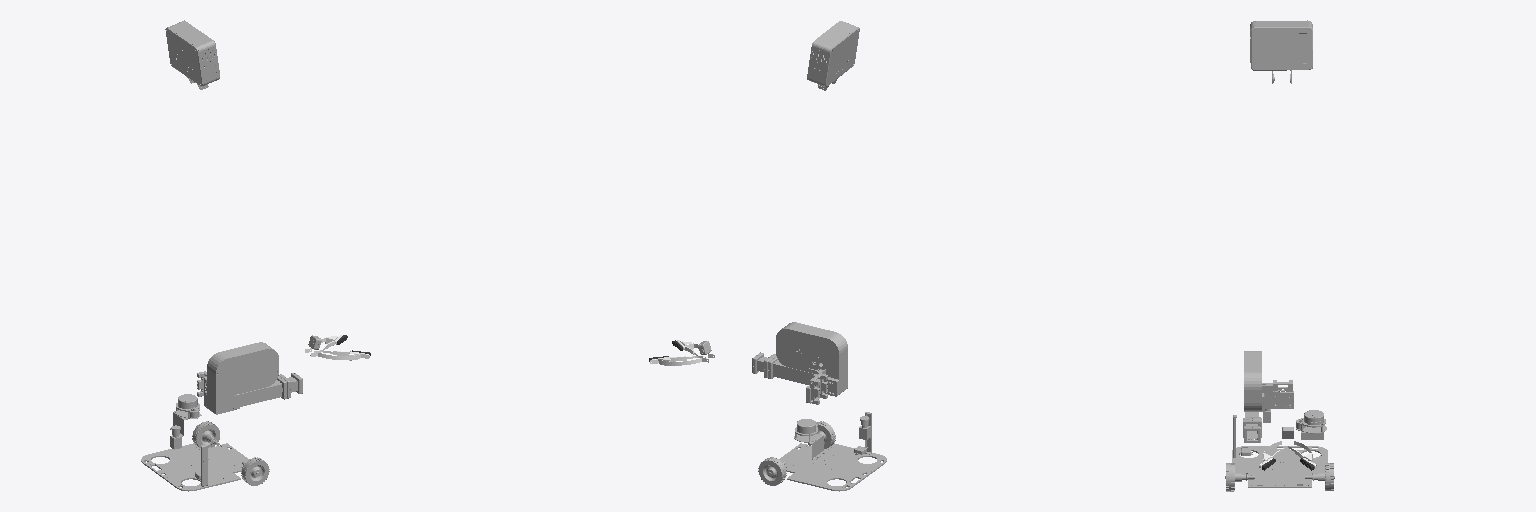
robot.urdf — konka_without_head_camera:
<?xml version="1.0" encoding="utf-8"?>
<!-- This URDF was automatically created by SolidWorks to URDF Exporter! Originally created by Stephen Brawner ([email redacted]) 
     Commit Version: 1.6.0-4-g7f85cfe  Build Version: 1.6.7995.38578
     For more information, please see http://wiki.ros.org/sw_urdf_exporter -->
<robot
  name="konka_without_head_camera">
  <link name="ground_link"/>
  <link name="base_link_z">
    <inertial>
      <origin xyz="0. 0. 0." rpy="0. 0. 0."/>
      <mass value="0.000001"/>
      <inertia ixx="0." ixy="0." ixz="0." iyy="0." iyz="0." izz="0."/>
    </inertial>
  </link>
  <joint name="base_z" type="revolute">
    <origin xyz="0. 0. 0." rpy="0. 0. 0."/>
    <parent link="ground_link"/>
    <child link="base_link_z"/>
    <axis xyz="0. 0. 1."/>
    <limit lower="-6.0" upper="6.0" effort="100" velocity="1.5"/>
  </joint>
  <link
    name="base_link">
    <inertial>
      <origin
        xyz="-0.134386456438626 -0.0029635574533388 0.0162723957299908"
        rpy="0 0 0" />
      <mass
        value="1.62345380476899" />
      <inertia
        ixx="0.0102521793009218"
        ixy="-0.000137622284476433"
        ixz="-2.97249967180695E-06"
        iyy="0.0105024284991203"
        iyz="-2.61808281409741E-05"
        izz="0.0200126307730333" />
    </inertial>
    <visual>
      <origin
        xyz="0 0 0"
        rpy="0 0 0" />
      <geometry>
        <mesh
          filename="./base_link.STL" />
      </geometry>
      <material
        name="">
        <color
          rgba="0.752941176470588 0.752941176470588 0.752941176470588 1" />
      </material>
    </visual>
    <collision>
      <origin
        xyz="0 0 0"
        rpy="0 0 0" />
      <geometry>
        <mesh
          filename="./base_link.STL" />
      </geometry>
    </collision>
  </link>
  <joint name="base_fixed" type="fixed">
    <origin xyz="0. 0. 0.05" rpy="0. 0. 0."/>
    <parent link="base_link_z"/>
    <child link="base_link"/>
  </joint>
  <link name="calibration_board"/>
  <joint name="calibration_board_joint" type="fixed">
    <origin xyz="0.6 0. -0.005" rpy="0. 0. 0."/>
    <parent link="base_link"/>
    <child link="calibration_board"/>
  </joint>
  <link
    name="link_left_wheel">
    <inertial>
      <origin
        xyz="1.2768616369091E-05 -4.43366311559182E-06 -0.0324391427791873"
        rpy="0 0 0" />
      <mass
        value="0.614259402757732" />
      <inertia
        ixx="0.000332643157382783"
        ixy="-1.12599594927163E-08"
        ixz="-1.85299097610504E-07"
        iyy="0.000332614640545352"
        iyz="6.43430424579014E-08"
        izz="0.000436884693388146" />
    </inertial>
    <visual>
      <origin
        xyz="0 0 0"
        rpy="0 0 0" />
      <geometry>
        <mesh
          filename="./link_left_wheel.STL" />
      </geometry>
      <material
        name="">
        <color
          rgba="0.752941176470588 0.752941176470588 0.752941176470588 1" />
      </material>
    </visual>
    <collision>
      <origin
        xyz="0 0 0"
        rpy="0 0 0" />
      <geometry>
        <mesh
          filename="./link_left_wheel.STL" />
      </geometry>
    </collision>
  </link>
  <joint
    name="joint_left_wheel"
    type="revolute">
    <origin
      xyz="0 0.192599945028044 0.000145516989955043"
      rpy="-1.57004078679594 0 0" />
    <parent
      link="base_link" />
    <child
      link="link_left_wheel" />
    <axis
      xyz="0 0 1" />
    <limit lower="-3.13" upper="3.13" effort="100" velocity="1.0"/>
  </joint>
  <link
    name="link_right_wheel">
    <inertial>
      <origin
        xyz="-6.5658817576808E-06 -1.18145727525283E-05 0.0324391427623859"
        rpy="0 0 0" />
      <mass
        value="0.614259402757732" />
      <inertia
        ixx="0.000332619304616668"
        ixy="1.54284701123084E-08"
        ixz="-9.5282980946905E-08"
        iyy="0.000332638493311467"
        iyz="-1.71455292240236E-07"
        izz="0.000436884693388146" />
    </inertial>
    <visual>
      <origin
        xyz="0 0 0"
        rpy="0 0 0" />
      <geometry>
        <mesh
          filename="./link_right_wheel.STL" />
      </geometry>
      <material
        name="">
        <color
          rgba="0.752941176470588 0.752941176470588 0.752941176470588 1" />
      </material>
    </visual>
    <collision>
      <origin
        xyz="0 0 0"
        rpy="0 0 0" />
      <geometry>
        <mesh
          filename="./link_right_wheel.STL" />
      </geometry>
    </collision>
  </link>
  <joint
    name="joint_right_wheel"
    type="revolute">
    <origin
      xyz="0 -0.192599945028044 -0.000145516989955071"
      rpy="-1.57004078679594 0 0" />
    <parent
      link="base_link" />
    <child
      link="link_right_wheel" />
    <axis
      xyz="0 0 1" />
    <limit lower="-3.13" upper="3.13" effort="100" velocity="1.0"/>
  </joint>
  <link
    name="link_mast">
    <inertial>
      <origin
        xyz="0.0258398513426664 0.028631401224958 0.467900104019929"
        rpy="0 0 0" />
      <mass
        value="6.18138650034138" />
      <inertia
        ixx="0.637662257415019"
        ixy="-0.000218992253647309"
        ixz="-0.00929685916784925"
        iyy="0.624235077725138"
        iyz="-0.00290164259795953"
        izz="0.0279704353207967" />
    </inertial>
    <visual>
      <origin
        xyz="0 0 0"
        rpy="0 0 0" />
      <geometry>
        <mesh
          filename="./link_mast.STL" />
      </geometry>
      <material
        name="">
        <color
          rgba="0.752941176470588 0.752941176470588 0.752941176470588 1" />
      </material>
    </visual>
    <collision>
      <origin
        xyz="0 0 0"
        rpy="0 0 0" />
      <geometry>
        <mesh
          filename="./link_mast.STL" />
      </geometry>
    </collision>
  </link>
  <joint
    name="joint_linkmast"
    type="fixed">
    <origin
      xyz="-0.165 -0.018631458667035 0.173985972848211"
      rpy="0.000755539998957646 0 0" />
    <parent
      link="base_link" />
    <child
      link="link_mast" />
    <axis
      xyz="0 0 0" />
  </joint>
  <link
    name="link_lift">
    <inertial>
      <origin
        xyz="-0.0867335200766273 -0.072830862176892 0.0739584361022941"
        rpy="0 0 0" />
      <mass
        value="2.18189187948171" />
      <inertia
        ixx="0.00452079175387906"
        ixy="-0.000115718692828965"
        ixz="0.00114589649702232"
        iyy="0.0106392420472737"
        iyz="-3.29952623386062E-06"
        izz="0.0081091147472212" />
    </inertial>
    <visual>
      <origin
        xyz="0 0 0"
        rpy="0 0 0" />
      <geometry>
        <mesh
          filename="./link_lift.STL" />
      </geometry>
      <material
        name="">
        <color
          rgba="0.752941176470588 0.752941176470588 0.752941176470588 1" />
      </material>
    </visual>
    <collision>
      <origin
        xyz="0 0 0"
        rpy="0 0 0" />
      <geometry>
        <mesh
          filename="./link_lift.STL" />
      </geometry>
    </collision>
  </link>
  <joint
    name="joint_lift"
    type="prismatic">
    <origin
      xyz="0.0293876763883446 -0.1085 0.061"
      rpy="0 0 3.14159265358979" />
    <parent
      link="link_mast" />
    <child
      link="link_lift" />
    <axis
      xyz="0 0 1" />
    <limit
      lower="0"
      upper="1.05"
      effort="150"
      velocity="1.0" />
  </joint>
  <link
    name="link_arm_l2">
    <inertial>
      <origin
        xyz="-2.77555756156289E-17 -0.00747677548647019 -0.125906294012483"
        rpy="0 0 0" />
      <mass
        value="0.20407766260326" />
      <inertia
        ixx="0.000420999527312303"
        ixy="7.24962235162678E-20"
        ixz="1.53419953638658E-19"
        iyy="0.000419986933703547"
        iyz="-2.80888078509622E-10"
        izz="0.000124139491906804" />
    </inertial>
    <visual>
      <origin
        xyz="0 0 0"
        rpy="0 0 0" />
      <geometry>
        <mesh
          filename="./link_arm_l2.STL" />
      </geometry>
      <material
        name="">
        <color
          rgba="0.752941176470588 0.752941176470588 0.752941176470588 1" />
      </material>
    </visual>
    <collision>
      <origin
        xyz="0 0 0"
        rpy="0 0 0" />
      <geometry>
        <mesh
          filename="./link_arm_l2.STL" />
      </geometry>
    </collision>
  </link>
  <joint
    name="joint_arm_l2"
    type="prismatic">
    <origin
      xyz="-0.309 -0.03 0.038106"
      rpy="1.5708 0 -1.5708" />
    <parent
      link="link_lift" />
    <child
      link="link_arm_l2" />
    <axis
      xyz="0 0 1" />
    <limit
      lower="0"
      upper="0.16"
      effort="100"
      velocity="0.3" />
  </joint>
  <link
    name="link_arm_l1">
    <inertial>
      <origin
        xyz="0 0.00068762387390503 -0.118491699466605"
        rpy="0 0 0" />
      <mass
        value="0.159794024856601" />
      <inertia
        ixx="0.000334176222316651"
        ixy="5.92944959148203E-13"
        ixz="-1.02194238224496E-19"
        iyy="0.000333509141410478"
        iyz="-1.71589193710407E-10"
        izz="7.75474295549907E-05" />
    </inertial>
    <visual>
      <origin
        xyz="0 0 0"
        rpy="0 0 0" />
      <geometry>
        <mesh
          filename="./link_arm_l1.STL" />
      </geometry>
      <material
        name="">
        <color
          rgba="0.752941176470588 0.752941176470588 0.752941176470588 1" />
      </material>
    </visual>
    <collision>
      <origin
        xyz="0 0 0"
        rpy="0 0 0" />
      <geometry>
        <mesh
          filename="./link_arm_l1.STL" />
      </geometry>
    </collision>
  </link>
  <joint
    name="joint_arm_l1"
    type="prismatic">
    <origin
      xyz="0 -0.0081064 0.05"
      rpy="0 0 0" />
    <parent
      link="link_arm_l2" />
    <child
      link="link_arm_l1" />
    <axis
      xyz="0 0 1" />
    <limit
      lower="0"
      upper="0.16"
      effort="100"
      velocity="0.3" />
  </joint>
  <link
    name="link_arm_l0">
    <inertial>
      <origin
        xyz="0.0519744051948967 0.0477815068262361 -0.031124032944062"
        rpy="0 0 0" />
      <mass
        value="0.647193039992598" />
      <inertia
        ixx="0.000479462761380211"
        ixy="-1.64412374026322E-05"
        ixz="9.98940987402069E-08"
        iyy="0.00128430953836159"
        iyz="7.66311046809528E-06"
        izz="0.00108267736017755" />
    </inertial>
    <visual>
      <origin
        xyz="0 0 0"
        rpy="0 0 0" />
      <geometry>
        <mesh
          filename="./link_arm_l0.STL" />
      </geometry>
      <material
        name="">
        <color
          rgba="0.752941176470588 0.752941176470588 0.752941176470588 1" />
      </material>
    </visual>
    <collision>
      <origin
        xyz="0 0 0"
        rpy="0 0 0" />
      <geometry>
        <mesh
          filename="./link_arm_l0.STL" />
      </geometry>
    </collision>
  </link>
  <joint
    name="joint_arm_l0"
    type="prismatic">
    <origin
      xyz="0 0.00125 0.014"
      rpy="0 0 0" />
    <parent
      link="link_arm_l1" />
    <child
      link="link_arm_l0" />
    <axis
      xyz="0 0 1" />
    <limit
      lower="0"
      upper="0.16"
      effort="100"
      velocity="0.3" />
  </joint>
  <link
    name="link_yaw">
    <inertial>
      <origin
        xyz="0.0272928150356697 -0.0206481319921274 -0.00980364928418231"
        rpy="0 0 0" />
      <mass
        value="0.155159344900663" />
      <inertia
        ixx="5.65269362200297E-05"
        ixy="-2.20426633356647E-06"
        ixz="6.79328087987658E-10"
        iyy="0.000142475212708442"
        iyz="1.86810231854491E-08"
        izz="0.000175668181600691" />
    </inertial>
    <visual>
      <origin
        xyz="0 0 0"
        rpy="0 0 0" />
      <geometry>
        <mesh
          filename="./link_yaw.STL" />
      </geometry>
      <material
        name="">
        <color
          rgba="0.752941176470588 0.752941176470588 0.752941176470588 1" />
      </material>
    </visual>
    <collision>
      <origin
        xyz="0 0 0"
        rpy="0 0 0" />
      <geometry>
        <mesh
          filename="./link_yaw.STL" />
      </geometry>
    </collision>
  </link>
  <joint
    name="joint_yaw"
    type="revolute">
    <origin
      xyz="0.1255 0.0329 -0.0139999999999998"
      rpy="1.5707963267949 0 -3.14159265358979" />
    <parent
      link="link_arm_l0" />
    <child
      link="link_yaw" />
    <axis
      xyz="0 0 1" />
    <limit
      lower="-0.6"
      upper="2.6179938779914944"
      effort="100"
      velocity="1.5" />
  </joint>
  <link
    name="link_pitch">
    <inertial>
      <origin
        xyz="0.0119812946911165 4.66924359487919E-06 -0.035075597818908"
        rpy="0 0 0" />
      <mass
        value="0.133282783942938" />
      <inertia
        ixx="5.50258663889395E-05"
        ixy="-1.07499880428723E-12"
        ixz="8.36729111150783E-06"
        iyy="5.26806886915758E-05"
        iyz="1.723023785643E-11"
        izz="3.27771968529081E-05" />
    </inertial>
    <visual>
      <origin
        xyz="0 0 0"
        rpy="0 0 0" />
      <geometry>
        <mesh
          filename="./link_pitch.STL" />
      </geometry>
      <material
        name="">
        <color
          rgba="0.752941176470588 0.752941176470588 0.752941176470588 1" />
      </material>
    </visual>
    <collision>
      <origin
        xyz="0 0 0"
        rpy="0 0 0" />
      <geometry>
        <mesh
          filename="./link_pitch.STL" />
      </geometry>
    </collision>
  </link>
  <joint
    name="joint_pitch"
    type="revolute">
    <origin
      xyz="0.0238 0 -0.032"
      rpy="1.5708 0.1 1.5708" />
    <parent
      link="link_yaw" />
    <child
      link="link_pitch" />
    <axis
      xyz="0 0 1" />
    <limit
      lower="-1.599119487777778"
      upper="0.321"
      effort="100"
      velocity="1.5" />
  </joint>
  <link
    name="link_roll">
    <inertial>
      <origin
        xyz="-2.89195848417814E-05 -0.0376798183196644 0.0643353904322303"
        rpy="0 0 0" />
      <mass
        value="0.121829025389052" />
      <inertia
        ixx="5.31374023436403E-05"
        ixy="-9.76005080721726E-10"
        ixz="3.01395798963676E-09"
        iyy="6.03480709621298E-05"
        iyz="1.60050749407347E-07"
        izz="2.40878226683839E-05" />
    </inertial>
    <visual>
      <origin
        xyz="0 0 0"
        rpy="0 0 0" />
      <geometry>
        <mesh
          filename="./link_roll.STL" />
      </geometry>
      <material
        name="">
        <color
          rgba="1 1 1 1" />
      </material>
    </visual>
    <collision>
      <origin
        xyz="0 0 0"
        rpy="0 0 0" />
      <geometry>
        <mesh
          filename="./link_roll.STL" />
      </geometry>
    </collision>
  </link>
  <joint
    name="joint_roll"
    type="revolute">
    <origin
      xyz="0.02935 0 -0.0235"
      rpy="0 -1.5708 3.1415" />
    <parent
      link="link_pitch" />
    <child
      link="link_roll" />
    <axis
      xyz="0 0 1" />
    <limit
      lower="-3.13"
      upper="3.13"
      effort="100"
      velocity="1.5" />
  </joint>
  <link name="grasp_center">
    <inertial>
      <origin xyz="0. 0. 0." rpy="0. 0. 0."/>
      <mass value="0.000001"/>
      <inertia ixx="0." ixy="0." ixz="0." iyy="0." iyz="0." izz="0."/>
    </inertial>
  </link>
  <joint
    name="joint_grasp_center"
    type="fixed">
    <origin
      xyz="0 -0.055 0.245"
      rpy="0 -1.5707963267948966 1.5707963267948966" />
    <parent
      link="link_roll" />
    <child
      link="grasp_center" />
    <axis
      xyz="0 0 0" />
  </joint>
  <link
    name="link_left_finger">
    <inertial>
      <origin
        xyz="-0.114744698410465 -0.0498383541703534 -0.00746862446376334"
        rpy="0 0 0" />
      <mass
        value="0.0299417572217902" />
      <inertia
        ixx="7.05723584660976E-06"
        ixy="-8.18061209276055E-06"
        ixz="-2.16411007946283E-08"
        iyy="1.7674711405082E-05"
        iyz="-1.35392572440682E-08"
        izz="2.24650542376446E-05" />
    </inertial>
    <visual>
      <origin
        xyz="0 0 0"
        rpy="0 0 0" />
      <geometry>
        <mesh
          filename="./link_left_finger.STL" />
      </geometry>
      <material
        name="">
        <color
          rgba="1 1 1 1" />
      </material>
    </visual>
    <collision>
      <origin
        xyz="0 0 0"
        rpy="0 0 0" />
      <geometry>
        <mesh
          filename="./link_left_finger.STL" />
      </geometry>
    </collision>
  </link>
  <joint
    name="joint_left_finger"
    type="revolute">
    <origin
      xyz="-0.0206 -0.057 0.10403"
      rpy="1.5708 1.5708 0" />
    <parent
      link="link_roll" />
    <child
      link="link_left_finger" />
    <axis
      xyz="0 0 -1" />
    <limit
      lower="-0.5235987755982988"
      upper="0.5235987755982988"
      effort="100"
      velocity="1.5" />
  </joint>
  <link
    name="link_left_finger_tip">
    <inertial>
      <origin
        xyz="0.00151426490846374 -4.00144909429301E-08 -0.00574071333127769"
        rpy="0 0 0" />
      <mass
        value="0.010954389987442" />
      <inertia
        ixx="1.86017054999914E-06"
        ixy="2.19372644545635E-11"
        ixz="2.01506973777714E-06"
        iyy="4.43361445763762E-06"
        iyz="-1.56990043568784E-11"
        izz="3.13133227560294E-06" />
    </inertial>
    <visual>
      <origin
        xyz="0 0 0"
        rpy="0 0 0" />
      <geometry>
        <mesh
          filename="./link_left_finger_tip.STL" />
      </geometry>
      <material
        name="">
        <color
          rgba="0.298039215686275 0.298039215686275 0.298039215686275 1" />
      </material>
    </visual>
    <collision>
      <origin
        xyz="0 0 0"
        rpy="0 0 0" />
      <geometry>
        <mesh
          filename="./link_left_finger_tip.STL" />
      </geometry>
    </collision>
  </link>
  <joint
    name="joint_left_finger_tip"
    type="fixed">
    <origin
      xyz="-0.15191 -0.044141 -0.0075"
      rpy="1.5708 0 -3.1416" />
    <parent
      link="link_left_finger" />
    <child
      link="link_left_finger_tip" />
    <axis
      xyz="0 1 0" />
  </joint>
  <link
    name="link_right_finger">
    <inertial>
      <origin
        xyz="-0.114744698410465 -0.0498383541703535 0.00746862841662832"
        rpy="0 0 0" />
      <mass
        value="0.02994175722179" />
      <inertia
        ixx="7.05723584666057E-06"
        ixy="-8.18061209276147E-06"
        ixz="2.16750283418599E-08"
        iyy="1.76747114051322E-05"
        iyz="1.35686225695102E-08"
        izz="2.24650542376416E-05" />
    </inertial>
    <visual>
      <origin
        xyz="0 0 0"
        rpy="0 0 0" />
      <geometry>
        <mesh
          filename="./link_right_finger.STL" />
      </geometry>
      <material
        name="">
        <color
          rgba="1 1 1 1" />
      </material>
    </visual>
    <collision>
      <origin
        xyz="0 0 0"
        rpy="0 0 0" />
      <geometry>
        <mesh
          filename="./link_right_finger.STL" />
      </geometry>
    </collision>
  </link>
  <joint
    name="joint_right_finger"
    type="revolute">
    <origin
      xyz="0.0206 -0.057 0.10403"
      rpy="-1.5708 1.5708 0" />
    <parent
      link="link_roll" />
    <child
      link="link_right_finger" />
    <axis
      xyz="0 0 1" />
    <limit
      lower="-0.5235987755982988"
      upper="0.5235987755982988"
      effort="100"
      velocity="1.5" />
  </joint>
  <link
    name="link_right_finger_tip">
    <inertial>
      <origin
        xyz="0.00151426490846418 -0.00574071333127785 4.00144913870193E-08"
        rpy="0 0 0" />
      <mass
        value="0.0109543899874422" />
      <inertia
        ixx="1.8601705499991E-06"
        ixy="2.01506973777736E-06"
        ixz="-2.19372644665949E-11"
        iyy="3.13133227560291E-06"
        iyz="1.56990043681769E-11"
        izz="4.43361445763754E-06" />
    </inertial>
    <visual>
      <origin
        xyz="0 0 0"
        rpy="0 0 0" />
      <geometry>
        <mesh
          filename="./link_right_finger_tip.STL" />
      </geometry>
      <material
        name="">
        <color
          rgba="0.298039215686275 0.298039215686275 0.298039215686275 1" />
      </material>
    </visual>
    <collision>
      <origin
        xyz="0 0 0"
        rpy="0 0 0" />
      <geometry>
        <mesh
          filename="./link_right_finger_tip.STL" />
      </geometry>
    </collision>
  </link>
  <joint
    name="joint_right_finger_tip"
    type="fixed">
    <origin
      xyz="-0.15191 -0.044141 0.0075"
      rpy="-3.1416 0 3.1416" />
    <parent
      link="link_right_finger" />
    <child
      link="link_right_finger_tip" />
    <axis
      xyz="0 0 1" />
  </joint>
  <link
    name="link_gripper_camera">
    <inertial>
      <origin
        xyz="3.30736058404314E-05 0.000223755392345981 -0.0121188975094917"
        rpy="0 0 0" />
      <mass
        value="0.0184927379038752" />
      <inertia
        ixx="3.1820171298716E-06"
        ixy="5.27161929305674E-09"
        ixz="-3.09328047364546E-09"
        iyy="3.36573547594482E-06"
        iyz="-9.33461708152667E-09"
        izz="6.07850825013886E-06" />
    </inertial>
    <visual>
      <origin
        xyz="0 0 0"
        rpy="0 0 0" />
      <geometry>
        <mesh
          filename="./link_gripper_camera.STL" />
      </geometry>
      <material
        name="">
        <color
          rgba="0.752941176470588 0.752941176470588 0.752941176470588 1" />
      </material>
    </visual>
    <collision>
      <origin
        xyz="0 0 0"
        rpy="0 0 0" />
      <geometry>
        <mesh
          filename="./link_gripper_camera.STL" />
      </geometry>
    </collision>
  </link>
  <joint
    name="joint_gripper_camera"
    type="fixed">
    <origin
      xyz="0 -0.084375 0.11165"
      rpy="-0.22689 0 0" />
    <parent
      link="link_roll" />
    <child
      link="link_gripper_camera" />
    <axis
      xyz="0 0 0" />
  </joint>
  <link
    name="link_head_pitch">
    <inertial>
      <origin
        xyz="0.0172959003249896 0.103642982193042 0.02825036288113"
        rpy="0 0 0" />
      <mass
        value="0.580790033978812" />
      <inertia
        ixx="0.00423801596737326"
        ixy="-0.000217125649654612"
        ixz="1.53469497813165E-05"
        iyy="0.00289024571132131"
        iyz="3.6170826234411E-05"
        izz="0.00171857268882932" />
    </inertial>
    <visual>
      <origin
        xyz="0 0 0"
        rpy="0 0 0" />
      <geometry>
        <mesh
          filename="./link_head_pitch.STL" />
      </geometry>
      <material
        name="">
        <color
          rgba="0.752941176470588 0.752941176470588 0.752941176470588 1" />
      </material>
    </visual>
    <collision>
      <origin
        xyz="0 0 0"
        rpy="0 0 0" />
      <geometry>
        <mesh
          filename="./link_head_pitch.STL" />
      </geometry>
    </collision>
  </link>
  <joint
    name="joint_head_pitch"
    type="revolute">
    <origin
      xyz="0.0395587489466813 -0.00390424565833469 1.31386462289597"
      rpy="1.57079632679498 0 -3.11282747052407" />
    <parent
      link="link_mast" />
    <child
      link="link_head_pitch" />
    <axis
      xyz="0 0 1" />
    <limit
      lower="-0.5235987755982988"
      upper="1.5708"
      effort="100"
      velocity="1.5" />
  </joint>
</robot>

--- What the picture shows (computed from the rendered views, not written in the file) ---
3 views of the same robot in one strip: view 1: azimuth 30°, elevation 25°; view 2: azimuth 150°, elevation 25°; view 3: azimuth 270°, elevation 25° (orthographic).
Model konka_without_head_camera with 21 links and 20 joints (9 revolute, 4 prismatic, 7 fixed), rooted at ground_link, posed all joints at 0.
Visible links, largest first — view 1: link_lift, base_link, link_head_pitch, link_right_wheel, link_left_wheel; view 2: link_lift, base_link, link_head_pitch, link_left_wheel; view 3: base_link, link_head_pitch, link_lift.
Boxes of the visible links, x1,y1,x2,y2 form: link_lift: (197, 342, 286, 414); base_link: (141, 394, 248, 491); link_head_pitch: (165, 20, 219, 89); link_right_wheel: (241, 457, 269, 485); link_left_wheel: (192, 421, 219, 447); link_lift: (768, 322, 847, 404); base_link: (779, 412, 886, 491); link_head_pitch: (807, 21, 859, 90); link_left_wheel: (758, 457, 786, 485); base_link: (1232, 409, 1327, 487); link_head_pitch: (1250, 20, 1312, 83); link_lift: (1243, 351, 1293, 418).
Bounding box of the posed robot: 0.834 × 0.3852 × 1.74 m (x, y, z).
12 mesh visuals loaded from 17 distinct referenced files (12 binary STL); not drawn: 5 (reference not matched to a file when rendering).
